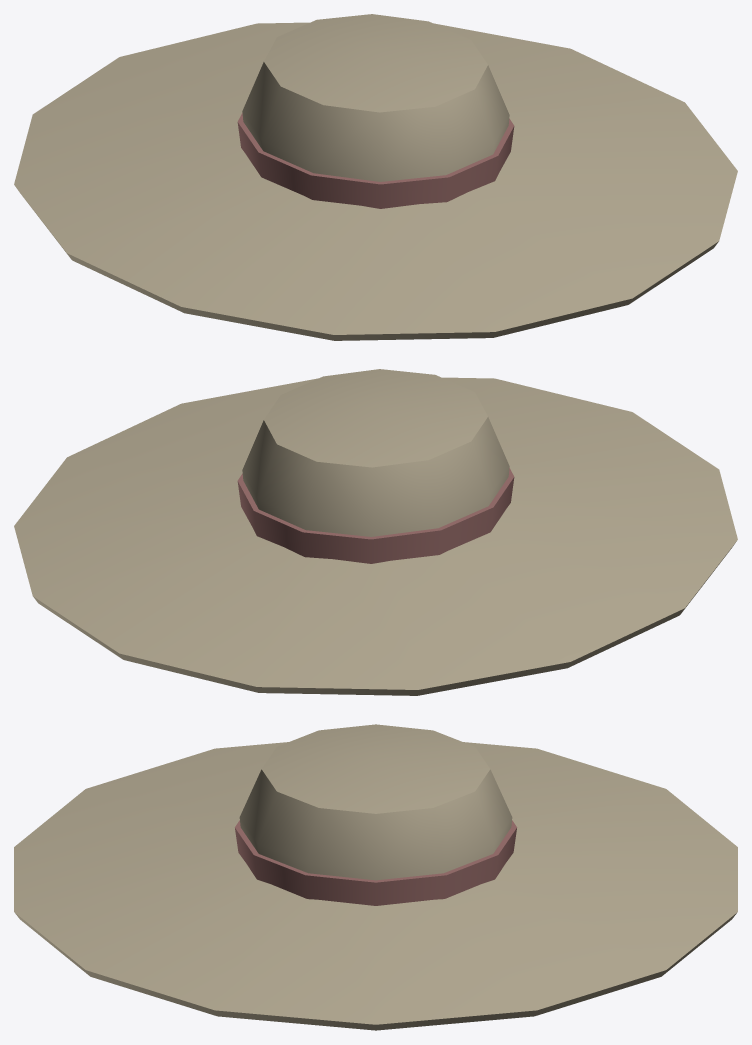
File: straw_hat.gltf
The picture shows the model from 3 angles, top to bottom: view 1: azimuth 30°, elevation 25°; view 2: azimuth 150°, elevation 25°; view 3: azimuth 270°, elevation 25°; orthographic projection. The views are drawn at different scales.
Parts seen in each view (by area): view 1: Body; view 2: Body; view 3: Body.
Boxes of the visible parts, box(x1,y1,x2,y2) form: Body: box(14, 14, 737, 340); Body: box(14, 369, 737, 695); Body: box(14, 724, 737, 1030).
Size of the model in its own units: 0.61 by 0.128 by 0.6423.
